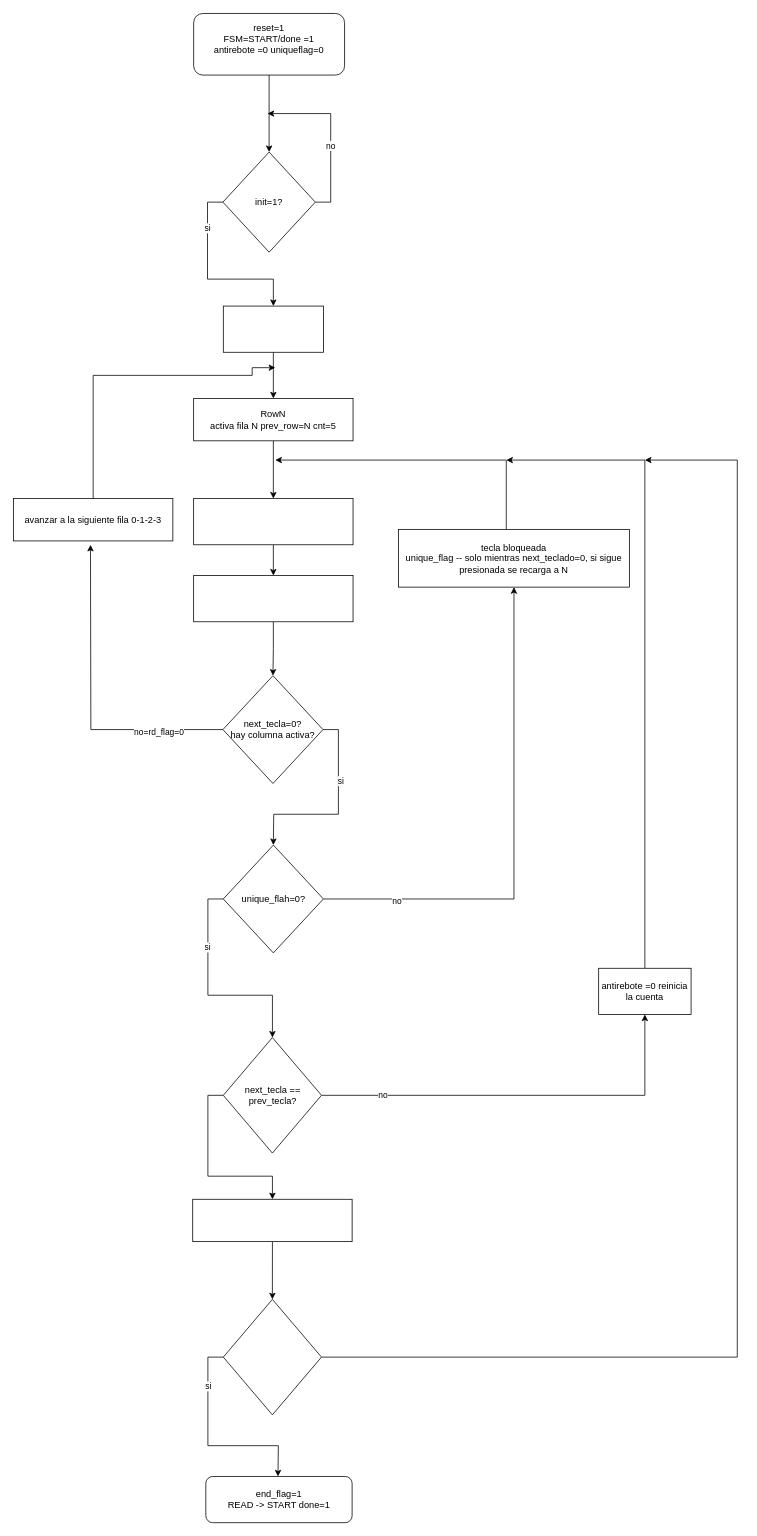
Image size: 757x1536. Some labels were removed from this diagram. The shapes that lost their labels are listed below. From the top down, each one's centre as x and y in pixels, then its label:
At (273,328): "data tcl unique flag=N START ->Row0".
At (273,521): "mantener la fila activa 6 ciclos de asentamiento".
At (273,598): "data_tcl decodifica cada posedge fila activa x columna -> next_tecla".
At (272,1220): "antirebote ++ rd_flag=1 retiene la fsm en READ sobre la misma fila".
At (272,1357): "antirebote =N 20ms estable".
